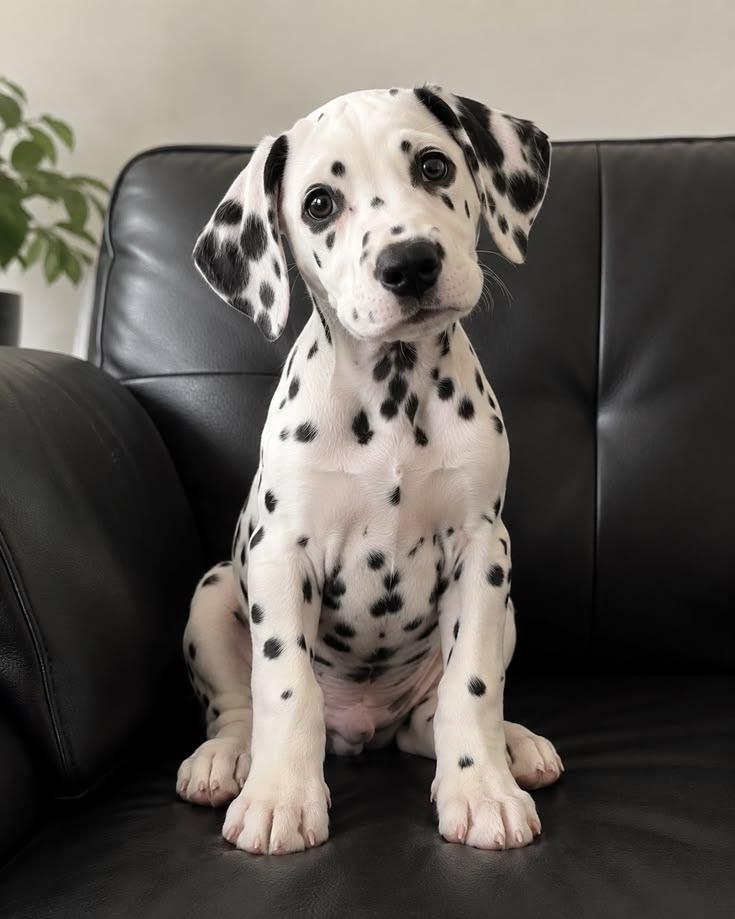dog: (178, 87, 561, 852)
